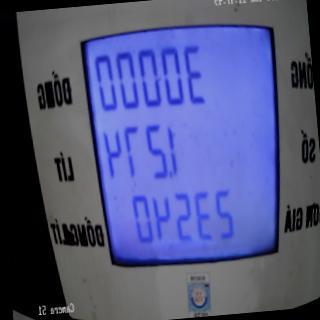screen: (74, 0, 297, 278)
